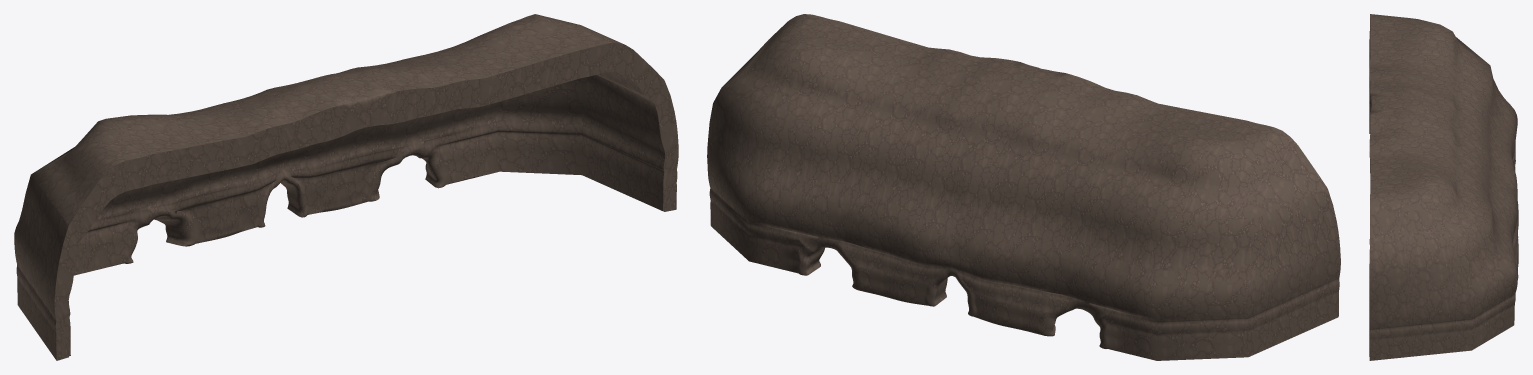
The model's file is cueva prehistoria.fbx.
3 views of the same model, side by side, from view 1: azimuth 30°, elevation 25°; view 2: azimuth 150°, elevation 25°; view 3: azimuth 270°, elevation 25° (orthographic). The views are drawn at different scales.
Parts seen in each view (by area): view 1: Cube.001; view 2: Cube.001; view 3: Cube.001.
Boxes of the visible parts, x1=… form: Cube.001: x1=14, y1=14, x2=678, y2=360; Cube.001: x1=707, y1=14, x2=1340, y2=360; Cube.001: x1=1369, y1=14, x2=1518, y2=360.
Size of the model in its own units: 44685 by 12902 by 12162.
